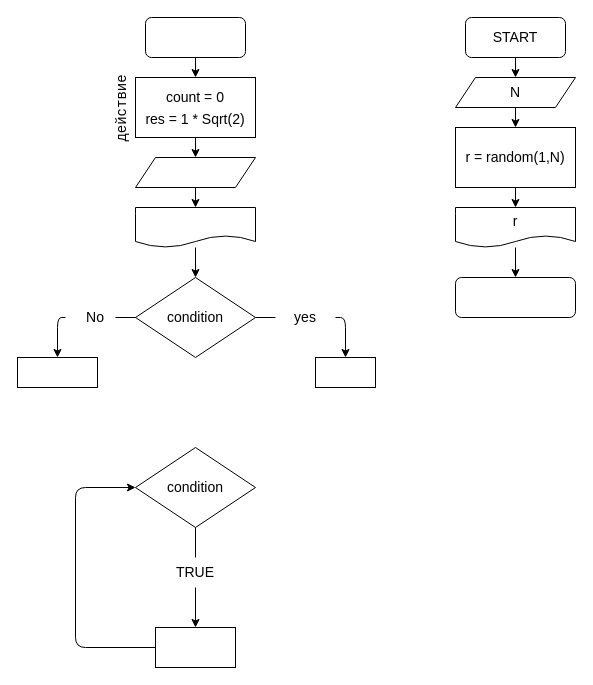
This 593x685 diagram has some shape labels left out. The shapes that lost their labels are listed below. From the top down, each one's box as (x1, y1, x2, y2) in pixels, then its label:
(144, 16, 246, 58): START END
(134, 156, 256, 188): ВВОД count
(134, 206, 256, 248): ВЫВОД res
(454, 276, 576, 318): END
